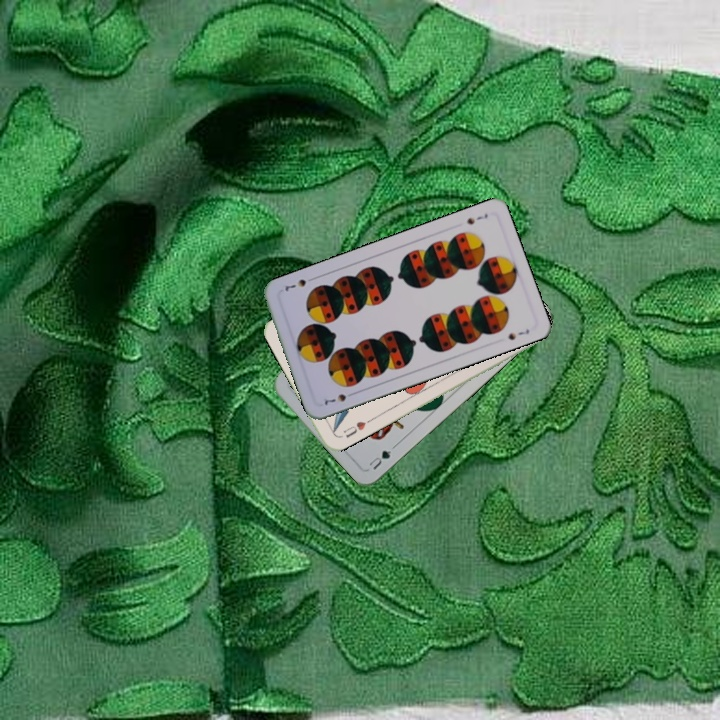GU: (365, 442, 398, 472)
HU: (340, 417, 368, 440)
S7: (320, 388, 358, 408), (463, 209, 490, 227)
